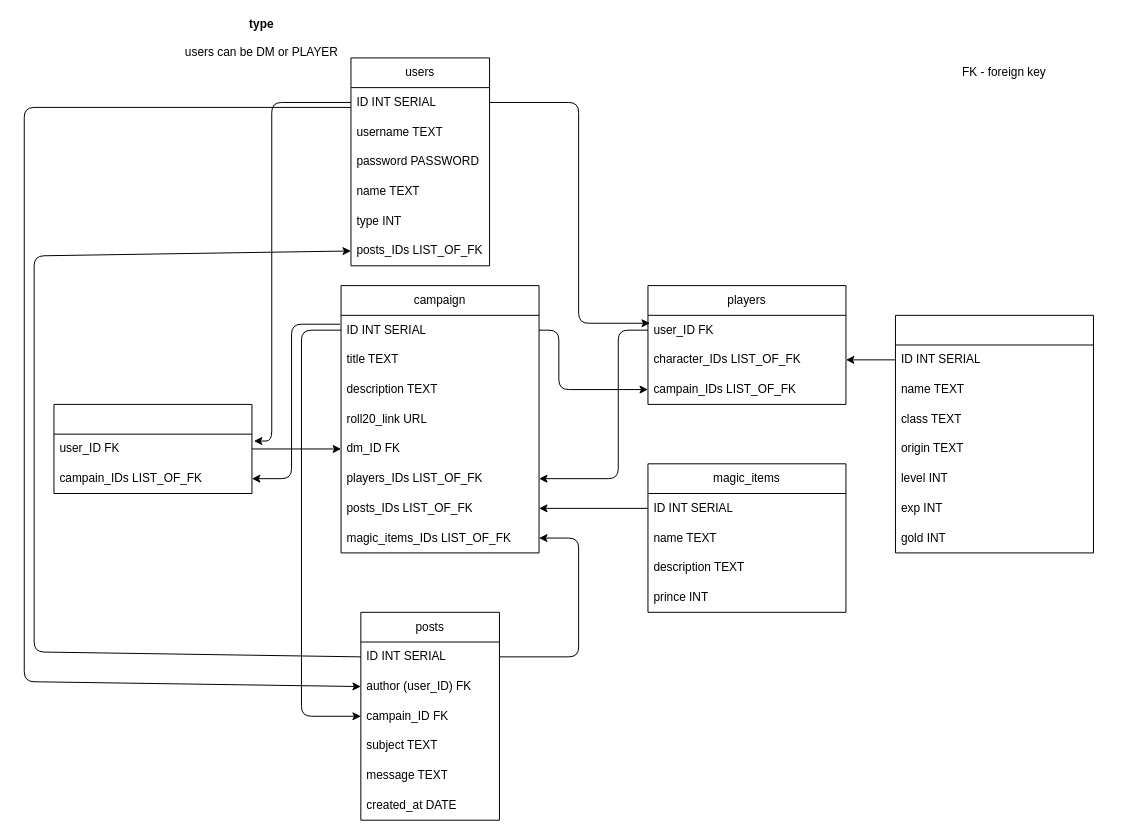
Image size: 1121x838. Some labels were removed from this diagram. The box of each missing label's shape, as (x1, y1, x2, y2) in pixels:
characters: (894, 314, 1093, 553)
dms: (53, 403, 252, 494)
